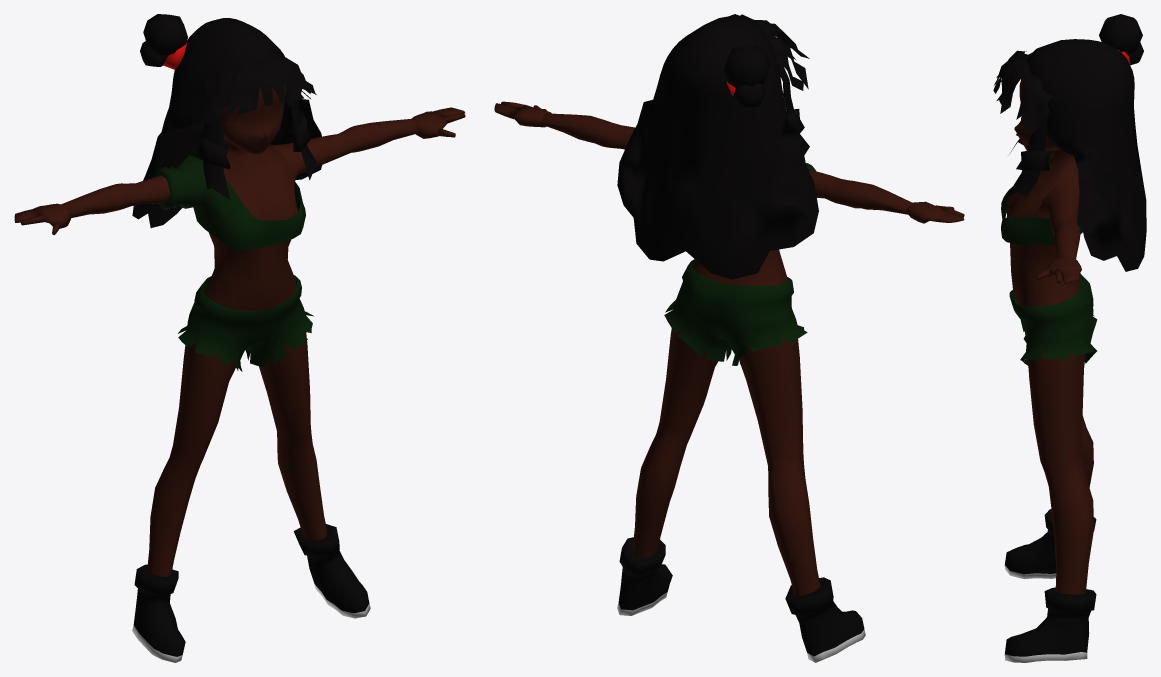
Rendered from miskha UV FINISHED.obj.
The picture shows the model from 3 angles, left to right: view 1: azimuth 30°, elevation 25°; view 2: azimuth 150°, elevation 25°; view 3: azimuth 270°, elevation 25°; orthographic projection. The views are drawn at different scales.
Parts seen in each view (by area): view 1: Body_Plane, Sphere.001, Shoes_Cube.001, Body.001_Plane.003, Arms_Plane.001, Body.003_Plane.004, Body.004_Plane.006, Arms.001_Plane.005, Sphere.006, Sphere.008, Plane_Plane.007, Cube.001_Cube.002 (+3 smaller); view 2: Sphere.001, Body_Plane, Body.001_Plane.003, Shoes_Cube.001, Arms_Plane.001, Cube.001_Cube.002, Cube.003_Cube.004; view 3: Sphere.001, Body_Plane, Shoes_Cube.001, Body.001_Plane.003, Arms_Plane.001, Body.003_Plane.004, Cube.001_Cube.002, Sphere.006, Plane_Plane.007, Sphere.007, Sphere.008, Plane.001_Plane.008 (+2 smaller).
Boxes of the visible parts, left/top/right/bottom form: Body_Plane: left=147, top=138, right=327, bottom=576; Sphere.001: left=132, top=18, right=322, bottom=227; Shoes_Cube.001: left=132, top=524, right=370, bottom=662; Body.001_Plane.003: left=178, top=275, right=313, bottom=371; Arms_Plane.001: left=61, top=118, right=418, bottom=218; Body.003_Plane.004: left=193, top=158, right=305, bottom=250; Body.004_Plane.006: left=221, top=83, right=285, bottom=154; Arms.001_Plane.005: left=152, top=155, right=212, bottom=210; Sphere.006: left=204, top=59, right=310, bottom=124; Sphere.008: left=227, top=57, right=316, bottom=116; Plane_Plane.007: left=203, top=99, right=316, bottom=199; Cube.001_Cube.002: left=143, top=14, right=187, bottom=55; Sphere.001: left=617, top=16, right=818, bottom=279; Body_Plane: left=632, top=249, right=820, bottom=596; Body.001_Plane.003: left=664, top=259, right=807, bottom=365; Shoes_Cube.001: left=617, top=537, right=865, bottom=662; Arms_Plane.001: left=540, top=113, right=912, bottom=214; Cube.001_Cube.002: left=724, top=46, right=770, bottom=87; Cube.003_Cube.004: left=514, top=104, right=941, bottom=223; Sphere.001: left=1026, top=39, right=1146, bottom=271; Body_Plane: left=1006, top=148, right=1093, bottom=594; Shoes_Cube.001: left=1004, top=509, right=1096, bottom=662; Body.001_Plane.003: left=1009, top=273, right=1097, bottom=365; Arms_Plane.001: left=1038, top=182, right=1080, bottom=258; Body.003_Plane.004: left=1001, top=154, right=1082, bottom=244; Cube.001_Cube.002: left=1099, top=14, right=1142, bottom=54; Sphere.006: left=993, top=52, right=1055, bottom=134; Plane_Plane.007: left=1007, top=104, right=1049, bottom=196; Sphere.007: left=1016, top=52, right=1042, bottom=134; Sphere.008: left=996, top=50, right=1027, bottom=113; Plane.001_Plane.008: left=1016, top=117, right=1052, bottom=170.
Bounding box in the file's own units: 1.29 × 1.63 × 0.389.
